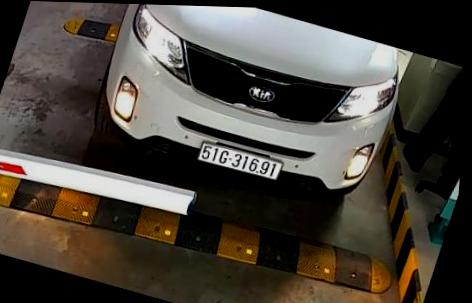License_Plate: (196, 134, 289, 184)
